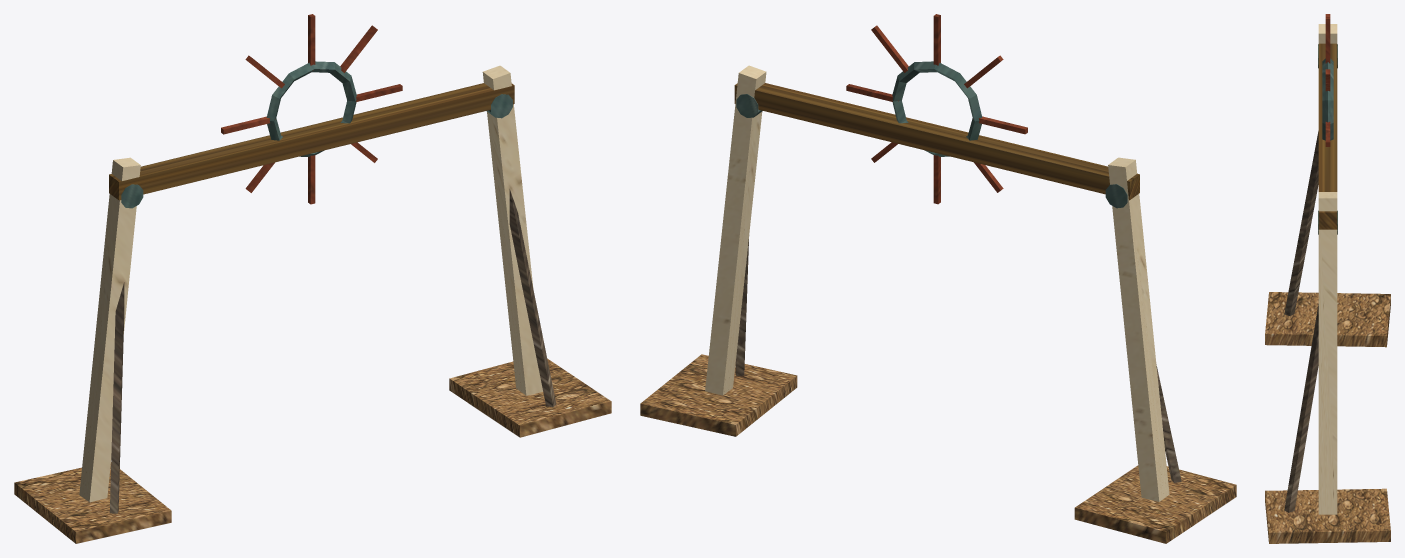
The model's file is showroom-entrance-arch.glb.
The picture shows the model from 3 angles, left to right: view 1: azimuth 30°, elevation 25°; view 2: azimuth 150°, elevation 25°; view 3: azimuth 270°, elevation 25°; orthographic projection. The views are drawn at different scales.
Parts seen in each view (by area): view 1: showroom-entrance-arch; view 2: showroom-entrance-arch; view 3: showroom-entrance-arch.
Boxes of the visible parts, left/top/right/bottom form: showroom-entrance-arch: left=14, top=14, right=611, bottom=543; showroom-entrance-arch: left=640, top=14, right=1236, bottom=543; showroom-entrance-arch: left=1265, top=14, right=1390, bottom=543.
Bounding box in the file's own units: 10.29 × 8.07 × 2.27.
1 material, 1 textured.
